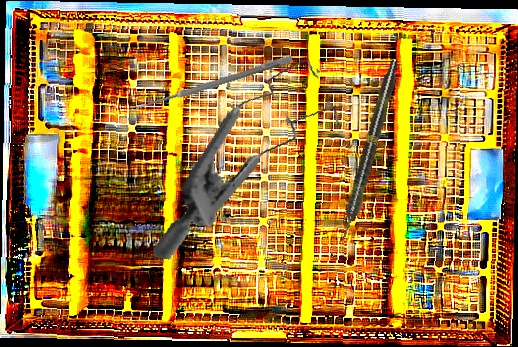Handpiece: (335, 58, 403, 244)
Speculum: (150, 38, 352, 287)
Surgical Spoon: (128, 53, 294, 115)
